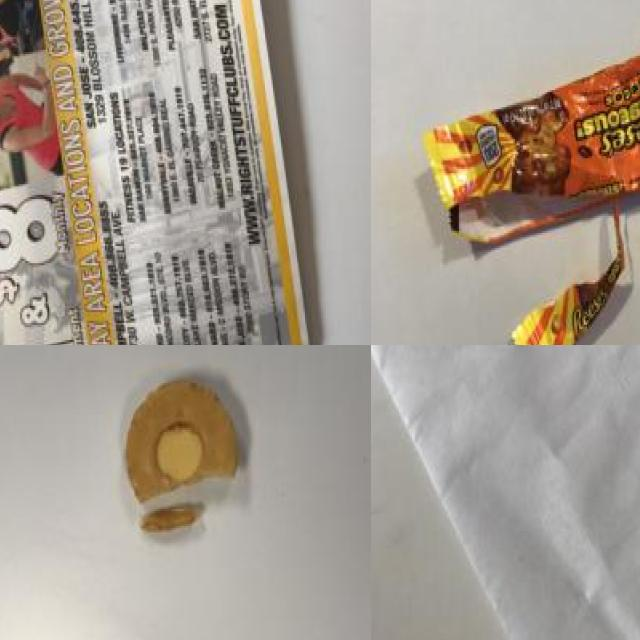compost: (102, 346, 256, 550)
paper: (0, 0, 306, 345), (371, 345, 640, 639)
trash: (411, 0, 640, 345)
